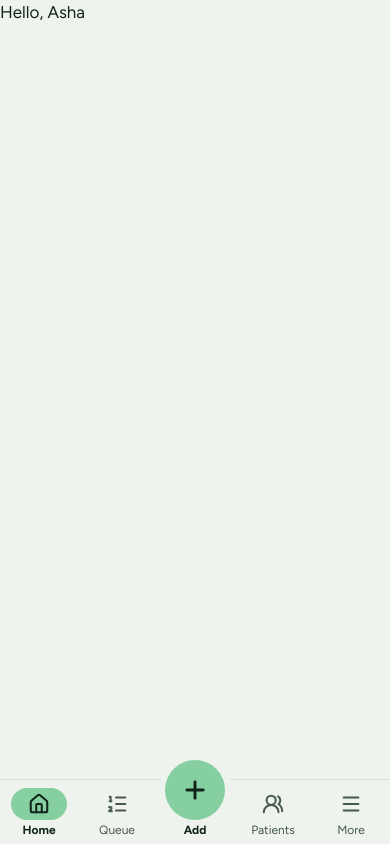
the phone's bottom bar › opens More as a sheet, and closes it
The width and height of the screenshot is (390, 844).
Click the button "More" at (351, 812), box [312,780,389,843]
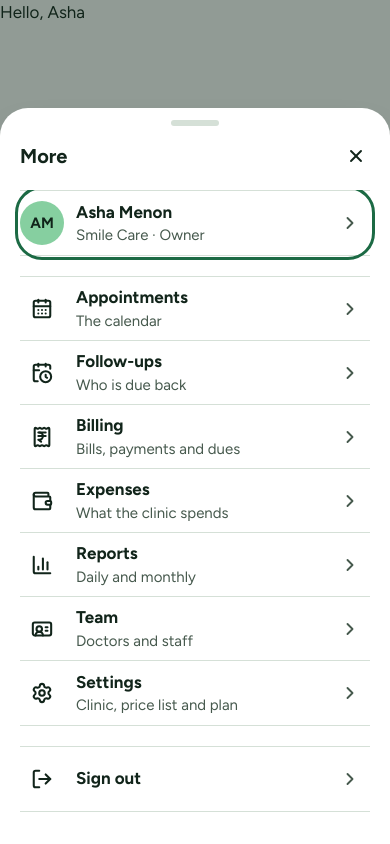
Now the button "More" is expanded, box [312,780,389,843]
Click the button named "Close" at (356, 156), box [334,134,378,178]
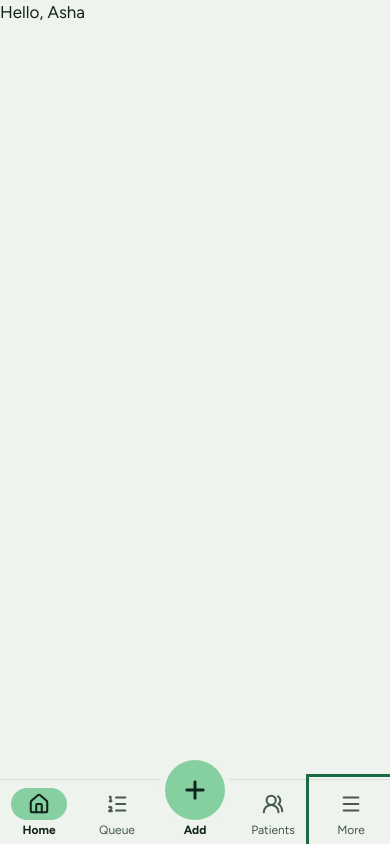
Now the button "More" is collapsed, box [312,780,389,843]
